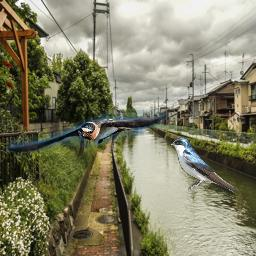Swallow: (6, 110, 167, 152), (170, 138, 240, 196)
